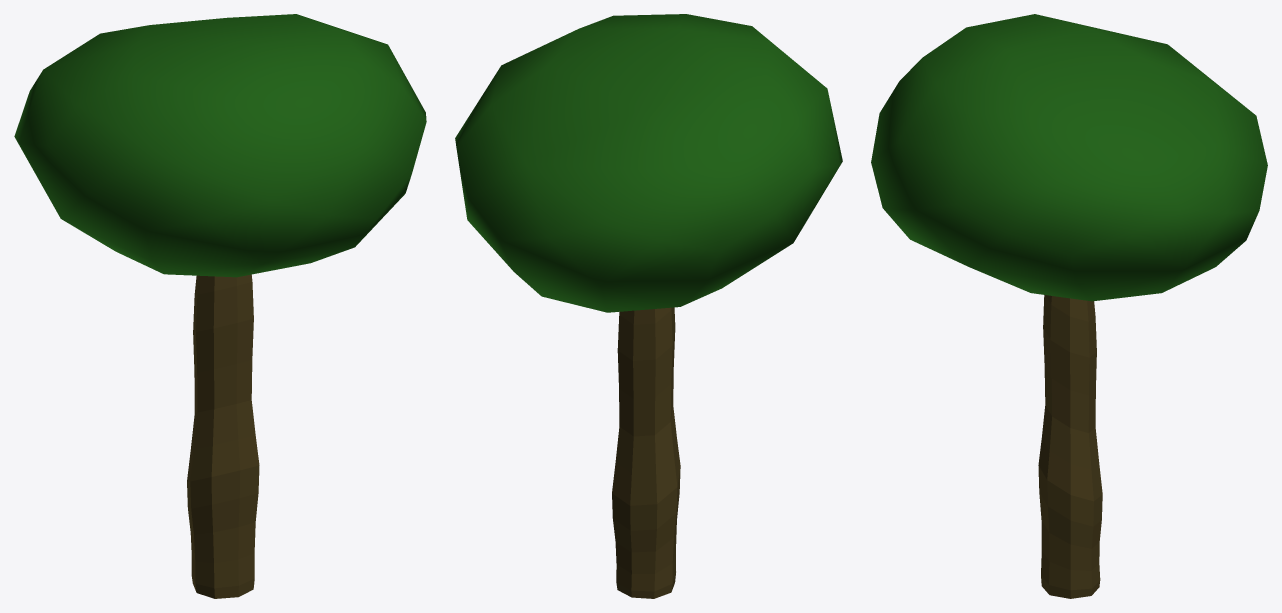
File: tree 2.fbx
3 renders of one model, left to right at view 1: azimuth 30°, elevation 25°; view 2: azimuth 150°, elevation 25°; view 3: azimuth 270°, elevation 25°, orthographic. The views are drawn at different scales.
Visible parts, largest first — view 1: Icosphere; view 2: Icosphere; view 3: Icosphere.
Part boxes in pixels (x1,y1,x2,y2): Icosphere: (14, 14, 426, 598); Icosphere: (455, 14, 842, 598); Icosphere: (871, 14, 1267, 598).
Size of the model in its own units: 6.69 by 10.28 by 6.88.
